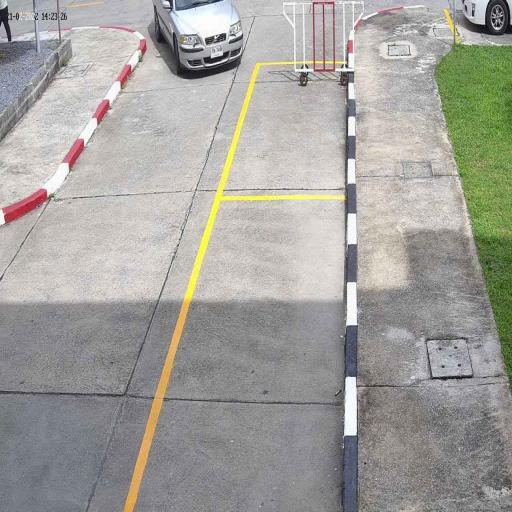car: (152, 0, 246, 80)
